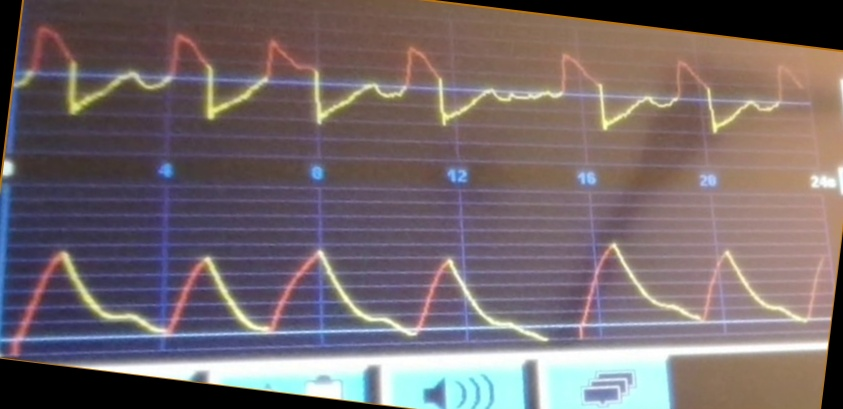Ineffective_effort Flow: (21, 23, 797, 140)
Ineffective_effort Volume: (8, 230, 825, 341)
